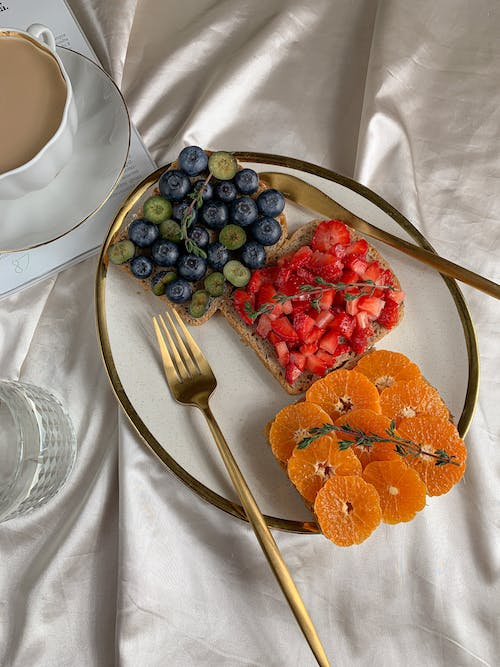knife: (252, 169, 500, 301)
